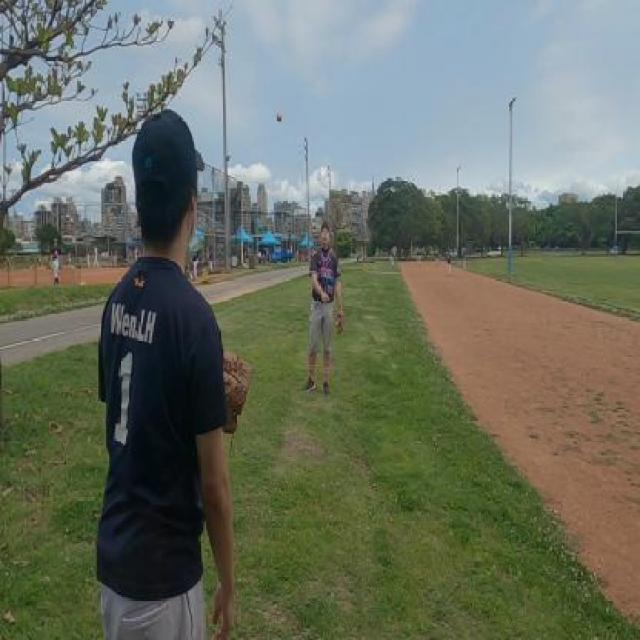baseball: (275, 110, 283, 122)
